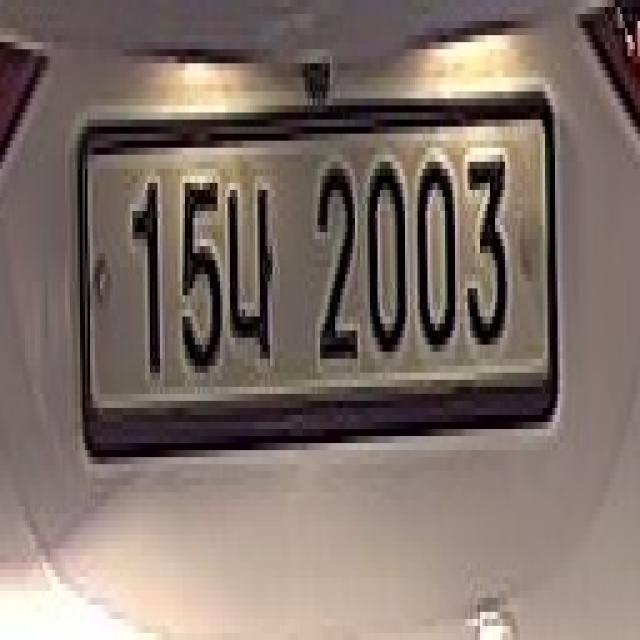0: (362, 140, 412, 387), (412, 140, 460, 372)
1: (125, 155, 177, 401)
2: (312, 140, 362, 387)
3: (460, 134, 518, 366)
5: (177, 155, 225, 401)
license_plate: (70, 78, 565, 500)
na: (225, 155, 280, 394)
